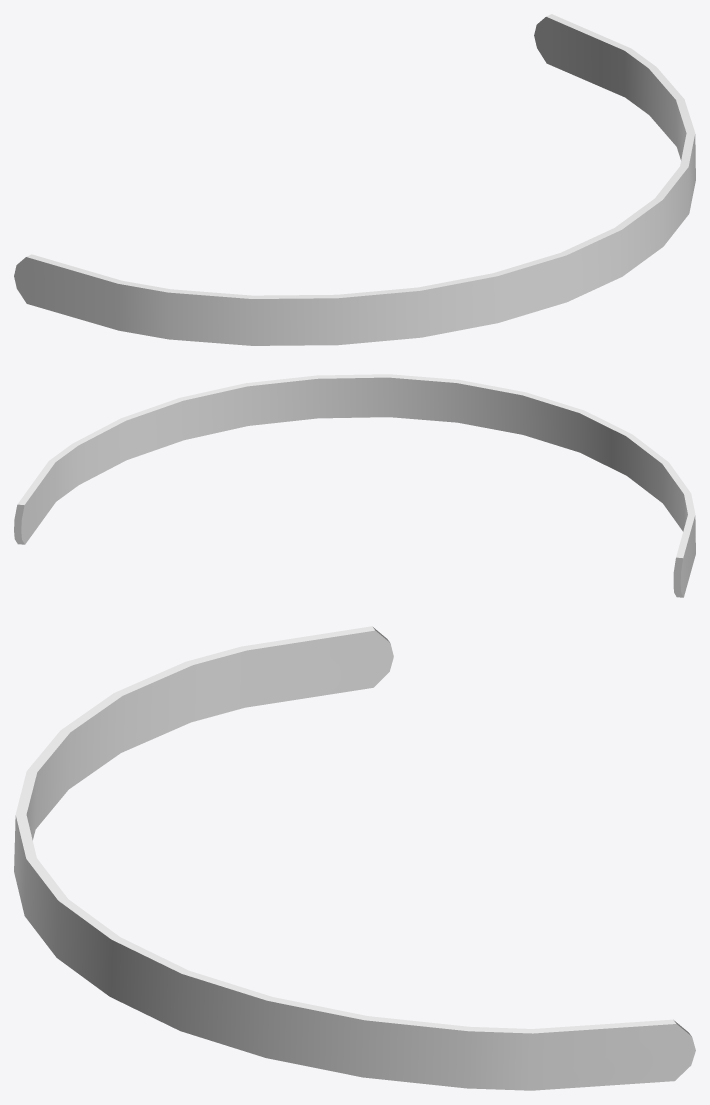
3 views of the same model, one above another, from view 1: azimuth 30°, elevation 25°; view 2: azimuth 150°, elevation 25°; view 3: azimuth 270°, elevation 25° (orthographic). The views are drawn at different scales.
Parts seen in each view (by area): view 1: Joint_0_Object_0; view 2: Joint_0_Object_0; view 3: Joint_0_Object_0.
Boxes of the visible parts, box(x1,y1,x2,y2) form: Joint_0_Object_0: box(14, 14, 695, 345); Joint_0_Object_0: box(14, 374, 695, 597); Joint_0_Object_0: box(14, 626, 695, 1090).
Bounding box in the file's own units: 318 × 26.59 × 226.
Materials: 1 (1 with a texture image).
